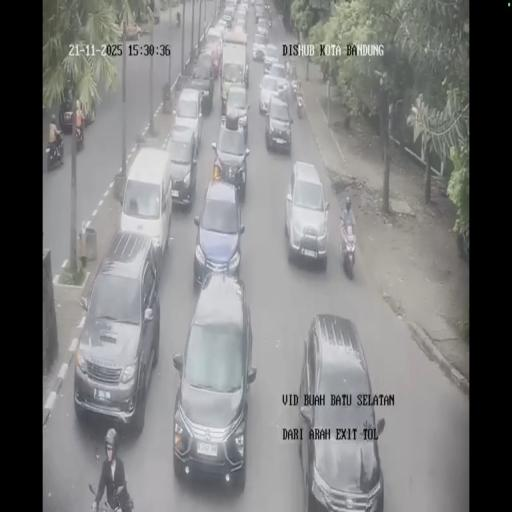car: (73, 232, 162, 430), (120, 147, 174, 263), (192, 177, 246, 289), (285, 161, 328, 268), (165, 127, 199, 207), (221, 82, 251, 143), (187, 52, 217, 112), (264, 91, 293, 152), (58, 88, 92, 135), (266, 60, 288, 89), (206, 25, 226, 54), (252, 33, 267, 62), (235, 2, 248, 31), (254, 1, 270, 24), (222, 1, 235, 26)
motorcycle: (340, 216, 356, 279), (46, 132, 64, 172), (294, 80, 304, 118), (74, 120, 84, 151)
